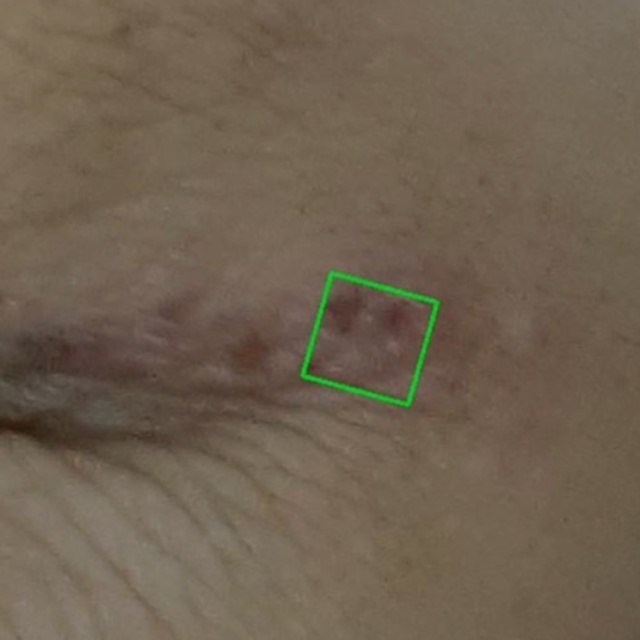Scabies: (301, 273, 436, 406)
